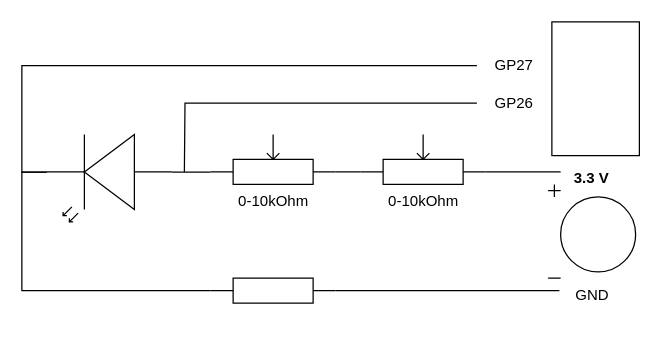
The diagram is 661 pixels wide and 351 high, and some of its shapes have lost their labels. The centre of each missing label's shape, as x and y in pixels:
98 Ohm: (x=272, y=290)
Raspberry Pi Pico: (x=595, y=88)
